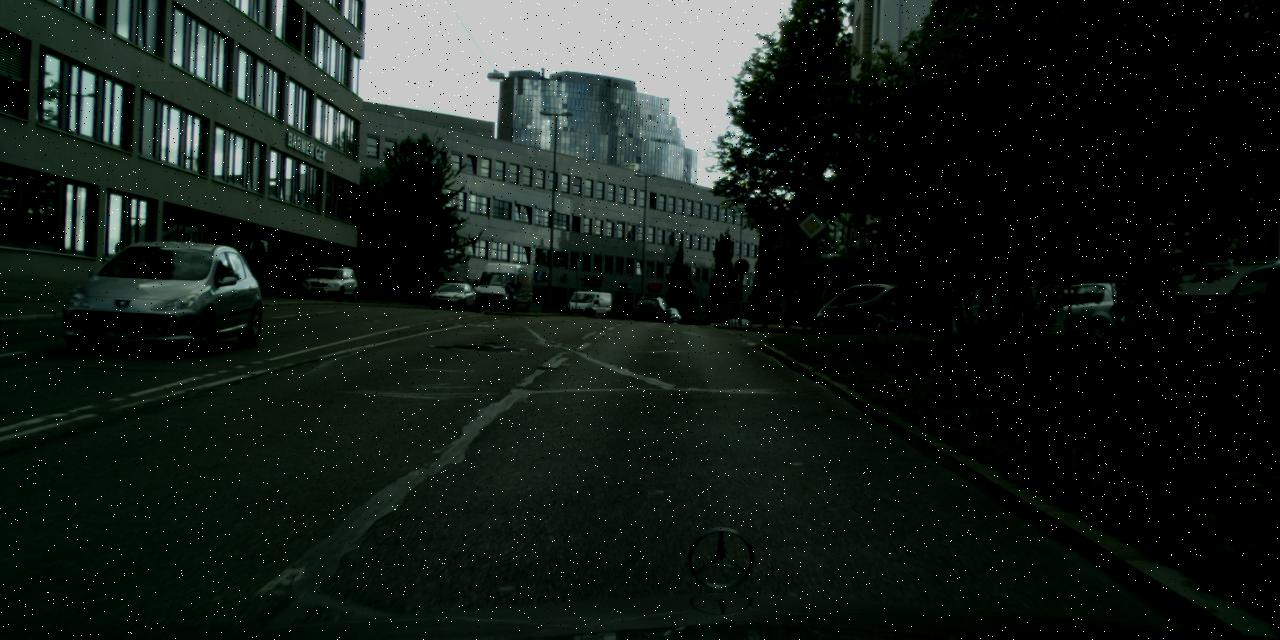ped: (821, 280, 838, 324)
